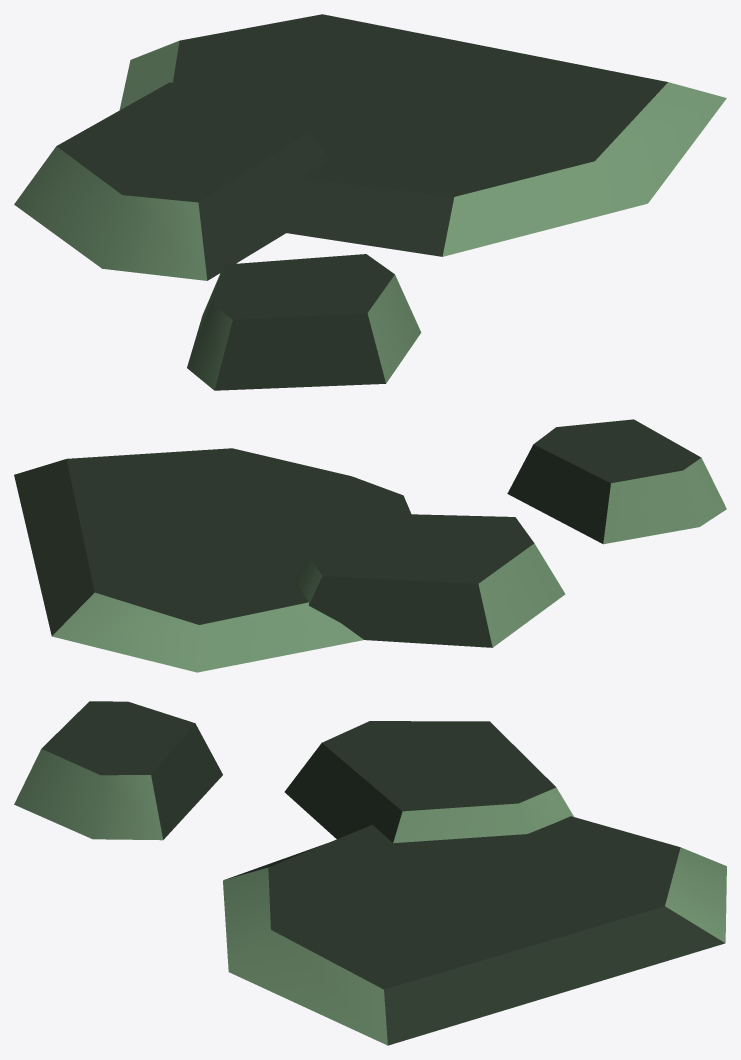
The model's file is SF_Env_Undead_Rock_02.glb.
The picture shows the model from 3 angles, top to bottom: view 1: azimuth 30°, elevation 25°; view 2: azimuth 150°, elevation 25°; view 3: azimuth 270°, elevation 25°; orthographic projection. The views are drawn at different scales.
Parts seen in each view (by area): view 1: SF_Env_Undead_Rock_02; view 2: SF_Env_Undead_Rock_02; view 3: SF_Env_Undead_Rock_02.
Boxes of the visible parts, bbox=[...] form: SF_Env_Undead_Rock_02: bbox=[14, 14, 726, 390]; SF_Env_Undead_Rock_02: bbox=[14, 419, 726, 672]; SF_Env_Undead_Rock_02: bbox=[14, 701, 726, 1045].
Size of the model in its own units: 0.0523 by 0.00442 by 0.0524.
1 material, 1 textured.
